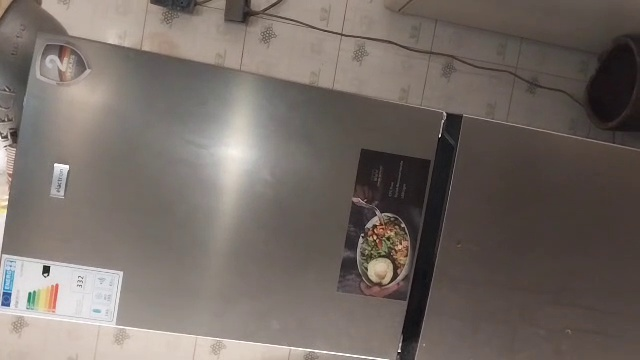refrigerator: (6, 25, 640, 360)
